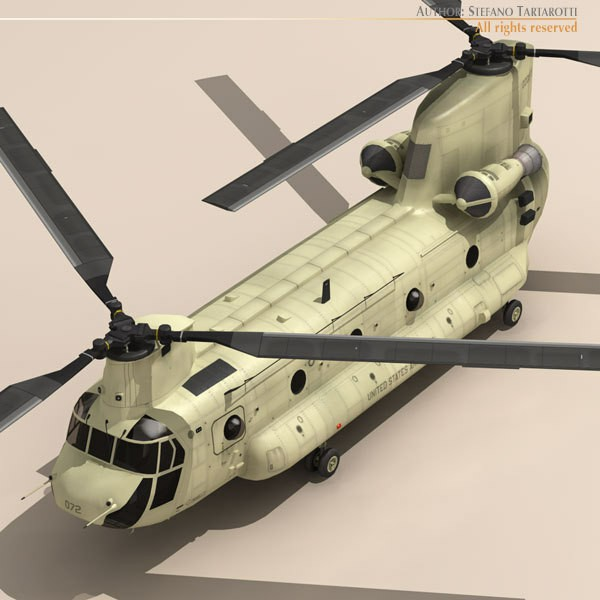chinook: (12, 38, 600, 532)
